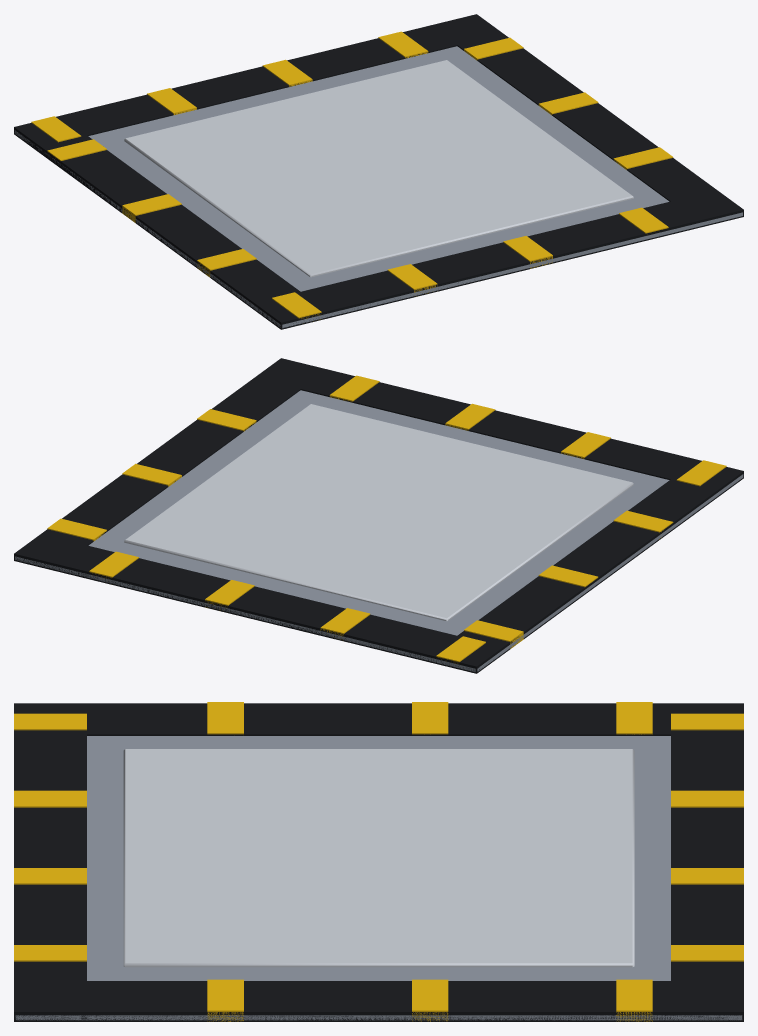
File: floorpanel_hazard_edge_2x2.glb
3 views of the same model, one above another, from view 1: azimuth 30°, elevation 25°; view 2: azimuth 150°, elevation 25°; view 3: azimuth 270°, elevation 25° (orthographic). The views are drawn at different scales.
Parts seen in each view (by area): view 1: floorpanel_hazard_edge_2x2; view 2: floorpanel_hazard_edge_2x2; view 3: floorpanel_hazard_edge_2x2.
Part boxes in pixels (x1,y1,x2,y2): floorpanel_hazard_edge_2x2: [14, 14, 743, 329]; floorpanel_hazard_edge_2x2: [14, 358, 743, 673]; floorpanel_hazard_edge_2x2: [14, 702, 743, 1021].
Size of the model in its own units: 2 by 0.035 by 2.
